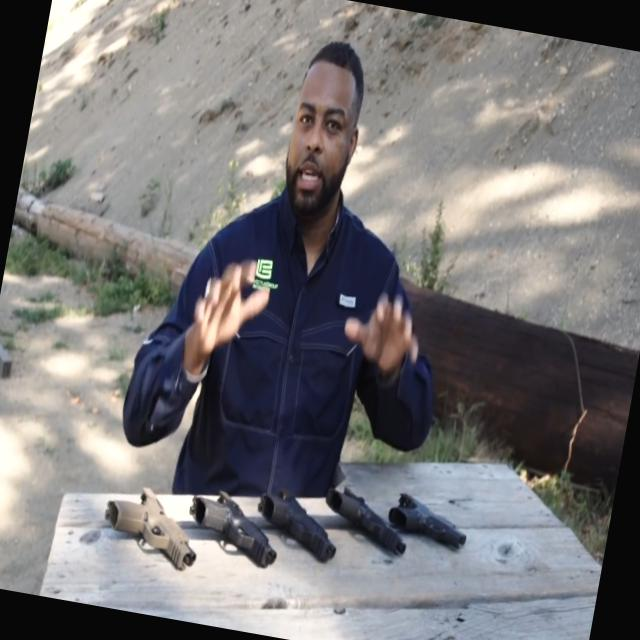handgun: (307, 464, 422, 594), (174, 472, 296, 588), (95, 477, 206, 600), (252, 474, 354, 590), (374, 476, 477, 582)
